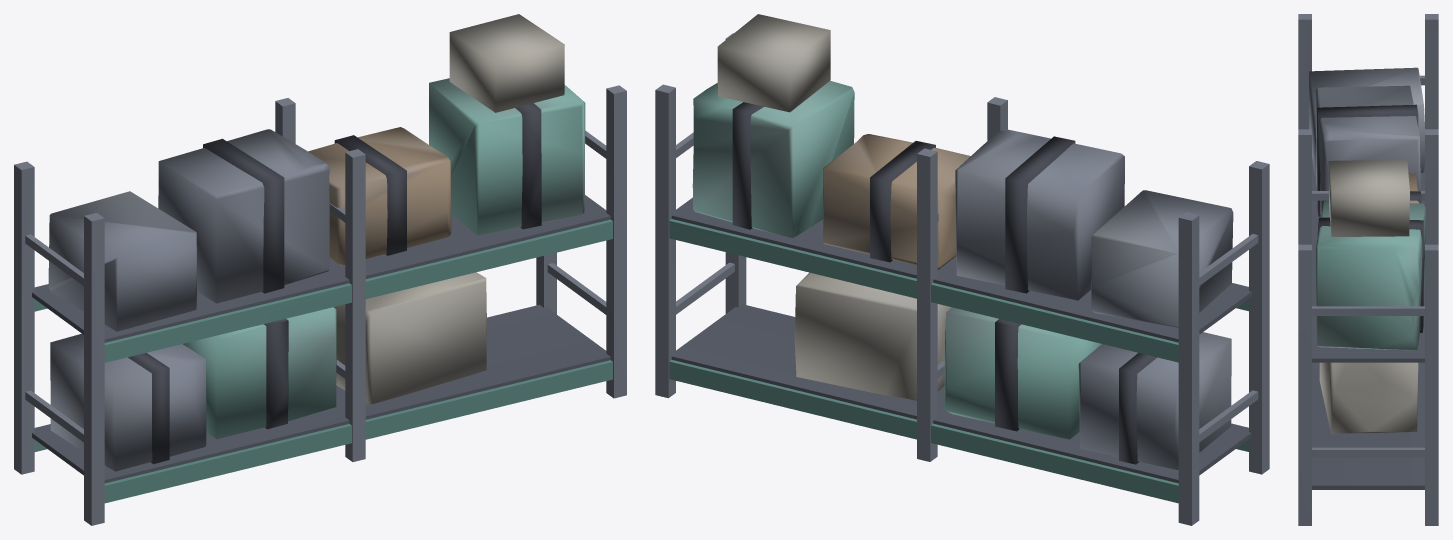
File: bay_rack_a.glb
3 renders of one model, left to right at view 1: azimuth 30°, elevation 25°; view 2: azimuth 150°, elevation 25°; view 3: azimuth 270°, elevation 25°, orthographic. The views are drawn at different scales.
Visible parts, largest first — view 1: rack; view 2: rack; view 3: rack.
Boxes of the visible parts, x1=… form: rack: x1=14, y1=14, x2=626, y2=525; rack: x1=655, y1=14, x2=1269, y2=525; rack: x1=1298, y1=14, x2=1438, y2=525.
Size of the model in its own units: 2.87 by 1.78 by 0.72.
